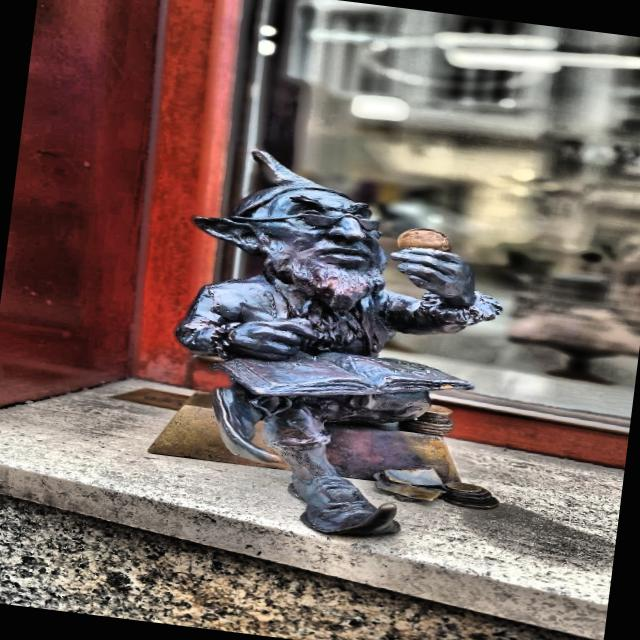Gaugan: (148, 150, 500, 537)
